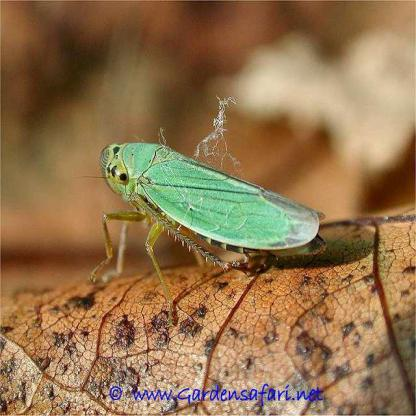Green-Leafhopper: (86, 136, 326, 328)
